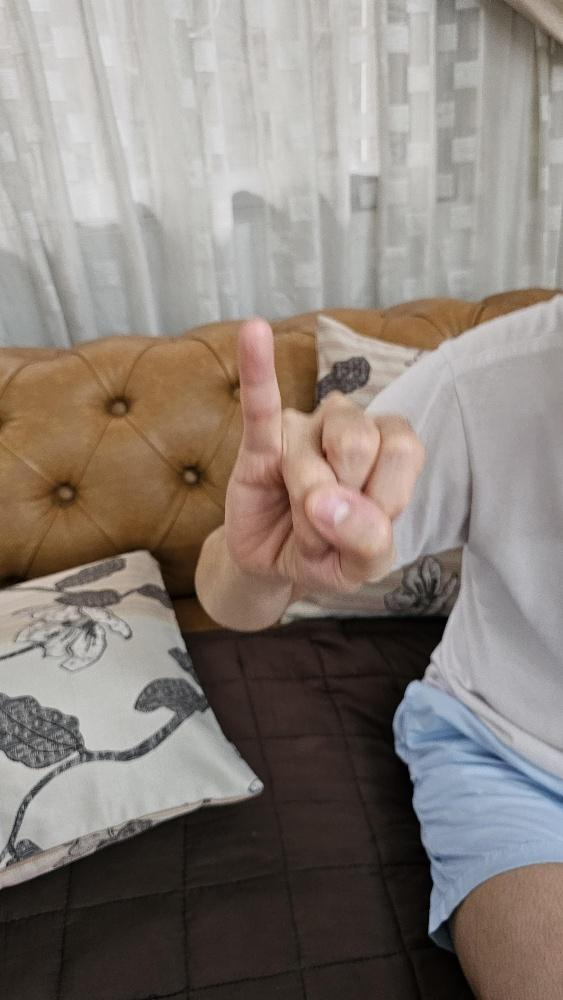i: (221, 313, 428, 598)
